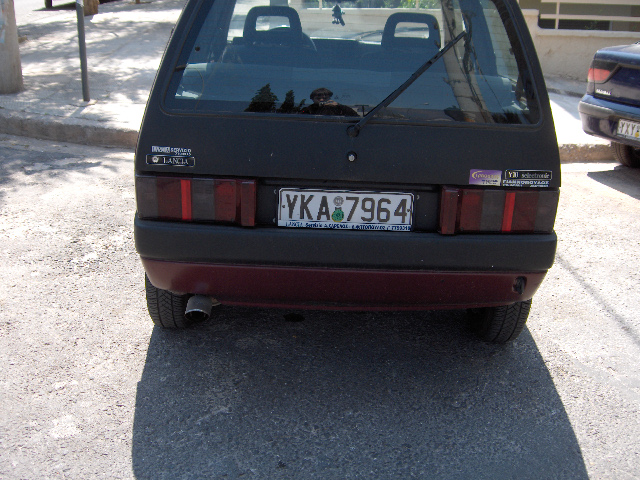licenseplate: (276, 188, 413, 227)
